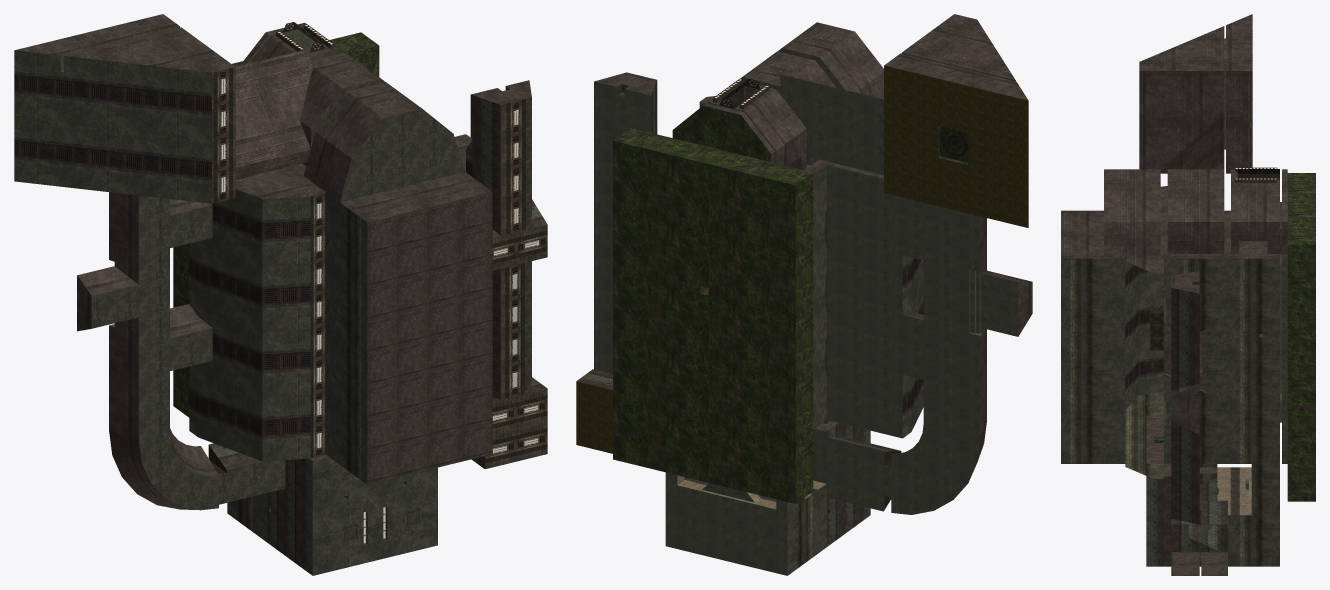
The model's file is DM-Gantry16][.obj.
3 views of the same model, side by side, from view 1: azimuth 30°, elevation 25°; view 2: azimuth 150°, elevation 25°; view 3: azimuth 270°, elevation 25° (orthographic). The views are drawn at different scales.
Parts seen in each view (by area): view 1: UTtech2_Wall_rClfWl2, UTtech2_Wall_rClfWl7, UTtech2_Ceiling_rClfClg2, DecayedS_Ceiling_dCeilng4, UTtech2_Wall_rClfWl3, UTtech2_Wall_rClfWl5x, DecayedS_Base_dSlimeBs, UTtech2_Floor_rClfFlr9x; view 2: UTtech2_Floor_rClfFlr9x, DecayedS_Base_dSlimeBs, DecayedS_Base_Base1C, UTtech2_Wall_rClfWl2, UTtech2_Wall_rClfWl3, UTtech2_Wall_rClfWl5x, UTtech2_Wall_rClfWl7, DecayedS_Deco_dSewer1c, UTtech2_Wall_rClfWl1a; view 3: UTtech2_Wall_rClfWl3, UTtech2_Wall_rClfWl2, UTtech2_Wall_rClfWl5x, DecayedS_Base_dSlimeBs, UTtech2_Wall_rClfWl7, UTtech2_Base_rClfBsB2, UTtech2_Wall_rClfWl1a, UTtech2_Floor_rClfFlr9x, UTtech2_Deco_rClfBox2.
Boxes of the visible parts, x1,y1,x2,y2 form: UTtech2_Wall_rClfWl2: (15, 14, 531, 510); UTtech2_Wall_rClfWl7: (14, 49, 472, 461); UTtech2_Ceiling_rClfClg2: (91, 79, 464, 575); DecayedS_Ceiling_dCeilng4: (212, 67, 547, 469); UTtech2_Wall_rClfWl3: (227, 192, 367, 542); UTtech2_Wall_rClfWl5x: (209, 94, 547, 575); DecayedS_Base_dSlimeBs: (16, 32, 379, 417); UTtech2_Floor_rClfFlr9x: (60, 26, 465, 327); UTtech2_Floor_rClfFlr9x: (594, 48, 1018, 575); DecayedS_Base_dSlimeBs: (613, 106, 968, 503); DecayedS_Base_Base1C: (576, 65, 1028, 453); UTtech2_Wall_rClfWl2: (594, 14, 1032, 461); UTtech2_Wall_rClfWl3: (787, 165, 826, 575); UTtech2_Wall_rClfWl5x: (576, 80, 900, 546); UTtech2_Wall_rClfWl7: (727, 86, 923, 437); DecayedS_Deco_dSewer1c: (940, 126, 968, 162); UTtech2_Wall_rClfWl1a: (677, 475, 825, 509); UTtech2_Wall_rClfWl3: (1061, 258, 1287, 566); UTtech2_Wall_rClfWl2: (1061, 14, 1287, 575); UTtech2_Wall_rClfWl5x: (1146, 287, 1227, 566); DecayedS_Base_dSlimeBs: (1250, 115, 1315, 501); UTtech2_Wall_rClfWl7: (1125, 262, 1163, 438); UTtech2_Base_rClfBsB2: (1146, 241, 1267, 476); UTtech2_Wall_rClfWl1a: (1217, 467, 1251, 515); UTtech2_Floor_rClfFlr9x: (1164, 38, 1281, 538); UTtech2_Deco_rClfBox2: (1150, 306, 1163, 350).
Bounding box in the file's own units: 74.9 × 79.17 × 43.89.
